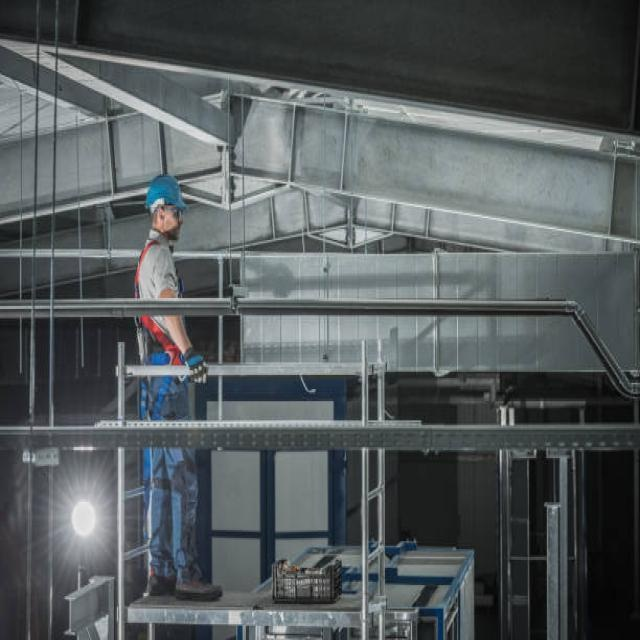Arnes_seguridad: (133, 242, 190, 433)
